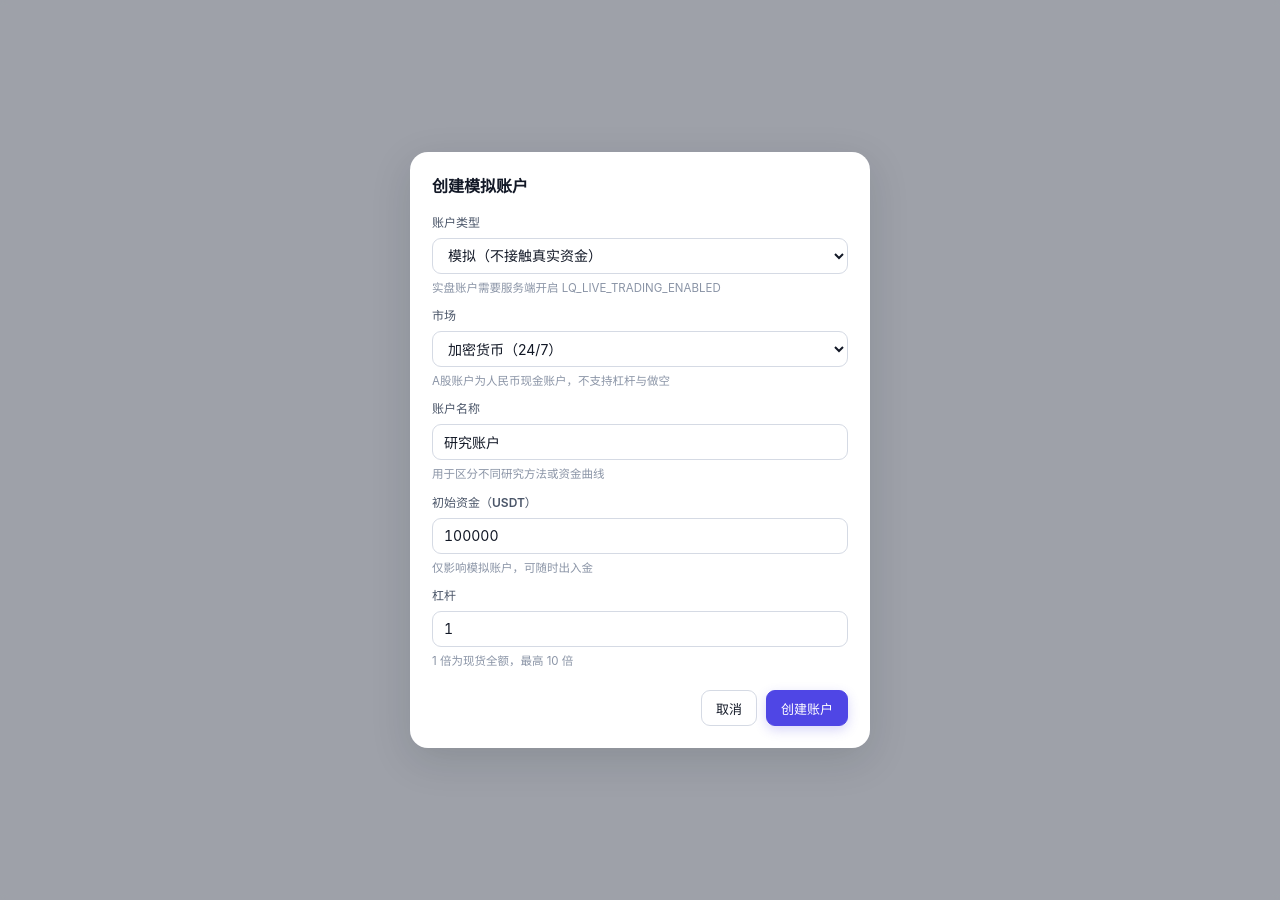
Test: CreateAccountModal › shows the live risks and a destructive-styled button when switching to live
Select "实盘（真实资金）" in the dropdown labelled "账户类型 实盘账户需要服务端开启 LQ_LIVE_TRADING_ENABLED". click: (640, 256)
box: [432,238,848,274]
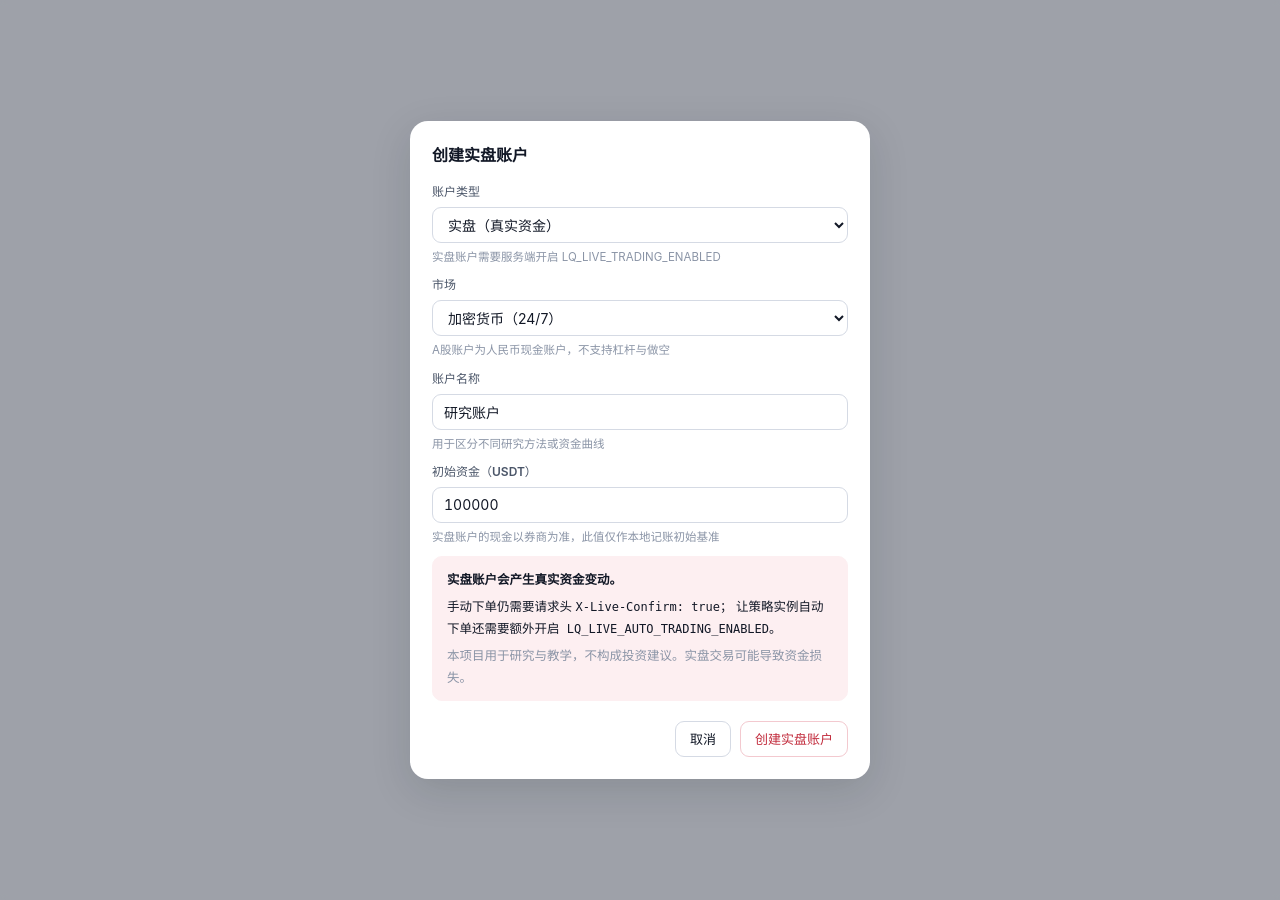
Expected: the text "实盘账户会产生真实资金变动。" is shown, [447,572,622,587]
Expected: the text "X-Live-Confirm: true" is shown, [576,600,720,614]
Expected: the text "LQ_LIVE_AUTO_TRADING_ENABLED" is shown, [560,622,769,636]
